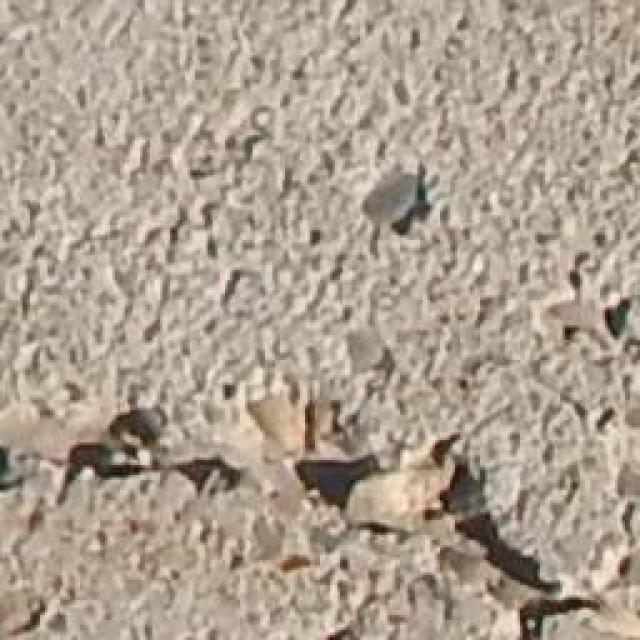concrete-crack: (7, 402, 620, 640), (368, 156, 439, 254), (0, 433, 34, 504)
